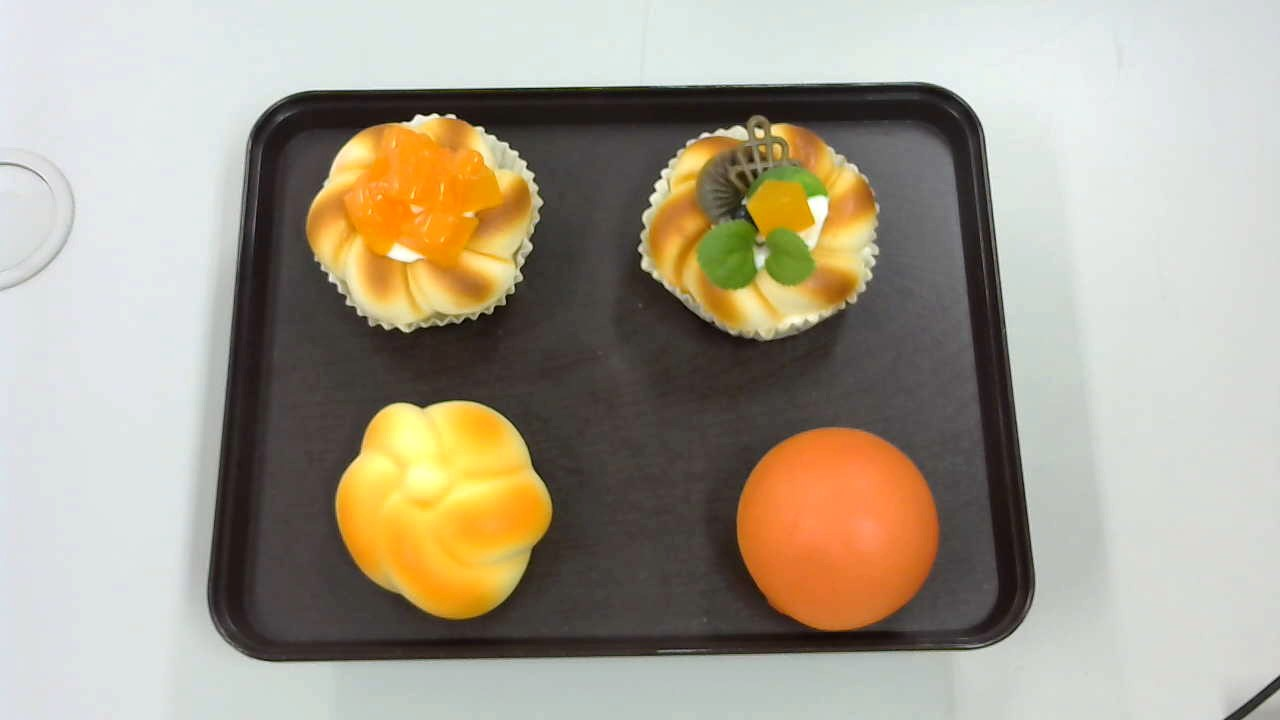bun: (736, 427, 942, 631)
fruit tart: (637, 112, 880, 341)
mango tart: (306, 113, 547, 334)
twist bread: (333, 401, 555, 621)
